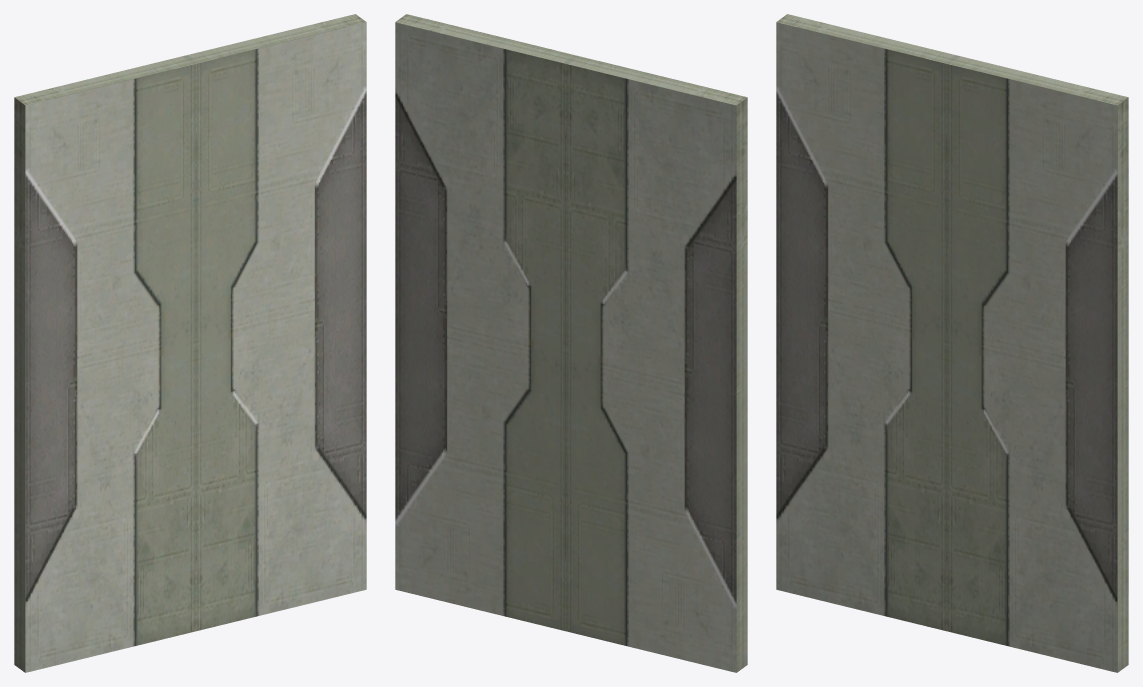
File: sorosuub_space_yacht_door2_l0.fbx
The picture shows the model from 3 angles, left to right: view 1: azimuth 30°, elevation 25°; view 2: azimuth 150°, elevation 25°; view 3: azimuth 330°, elevation 25°; orthographic projection.
Parts seen in each view (by area): view 1: mesh_node; view 2: mesh_node; view 3: mesh_node.
Boxes of the visible parts, x1,y1,x2,y2 form: mesh_node: (14,14,366,672); mesh_node: (395,14,747,672); mesh_node: (776,14,1128,672).
Bounding box in the file's own units: 1.7 × 2.7 × 0.0968.
1 material, 1 textured.
